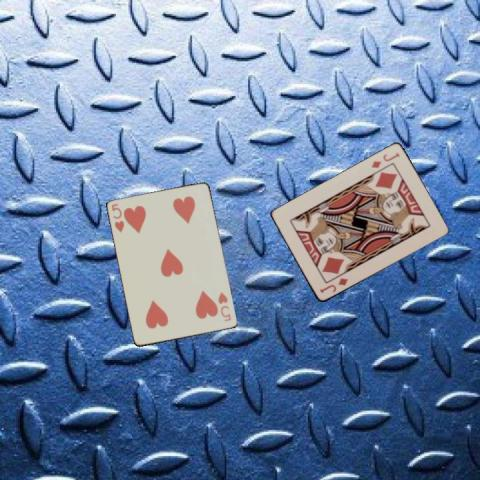5h: (215, 289, 233, 323), (109, 201, 126, 234)
Jd: (317, 276, 349, 296), (369, 150, 401, 170)
